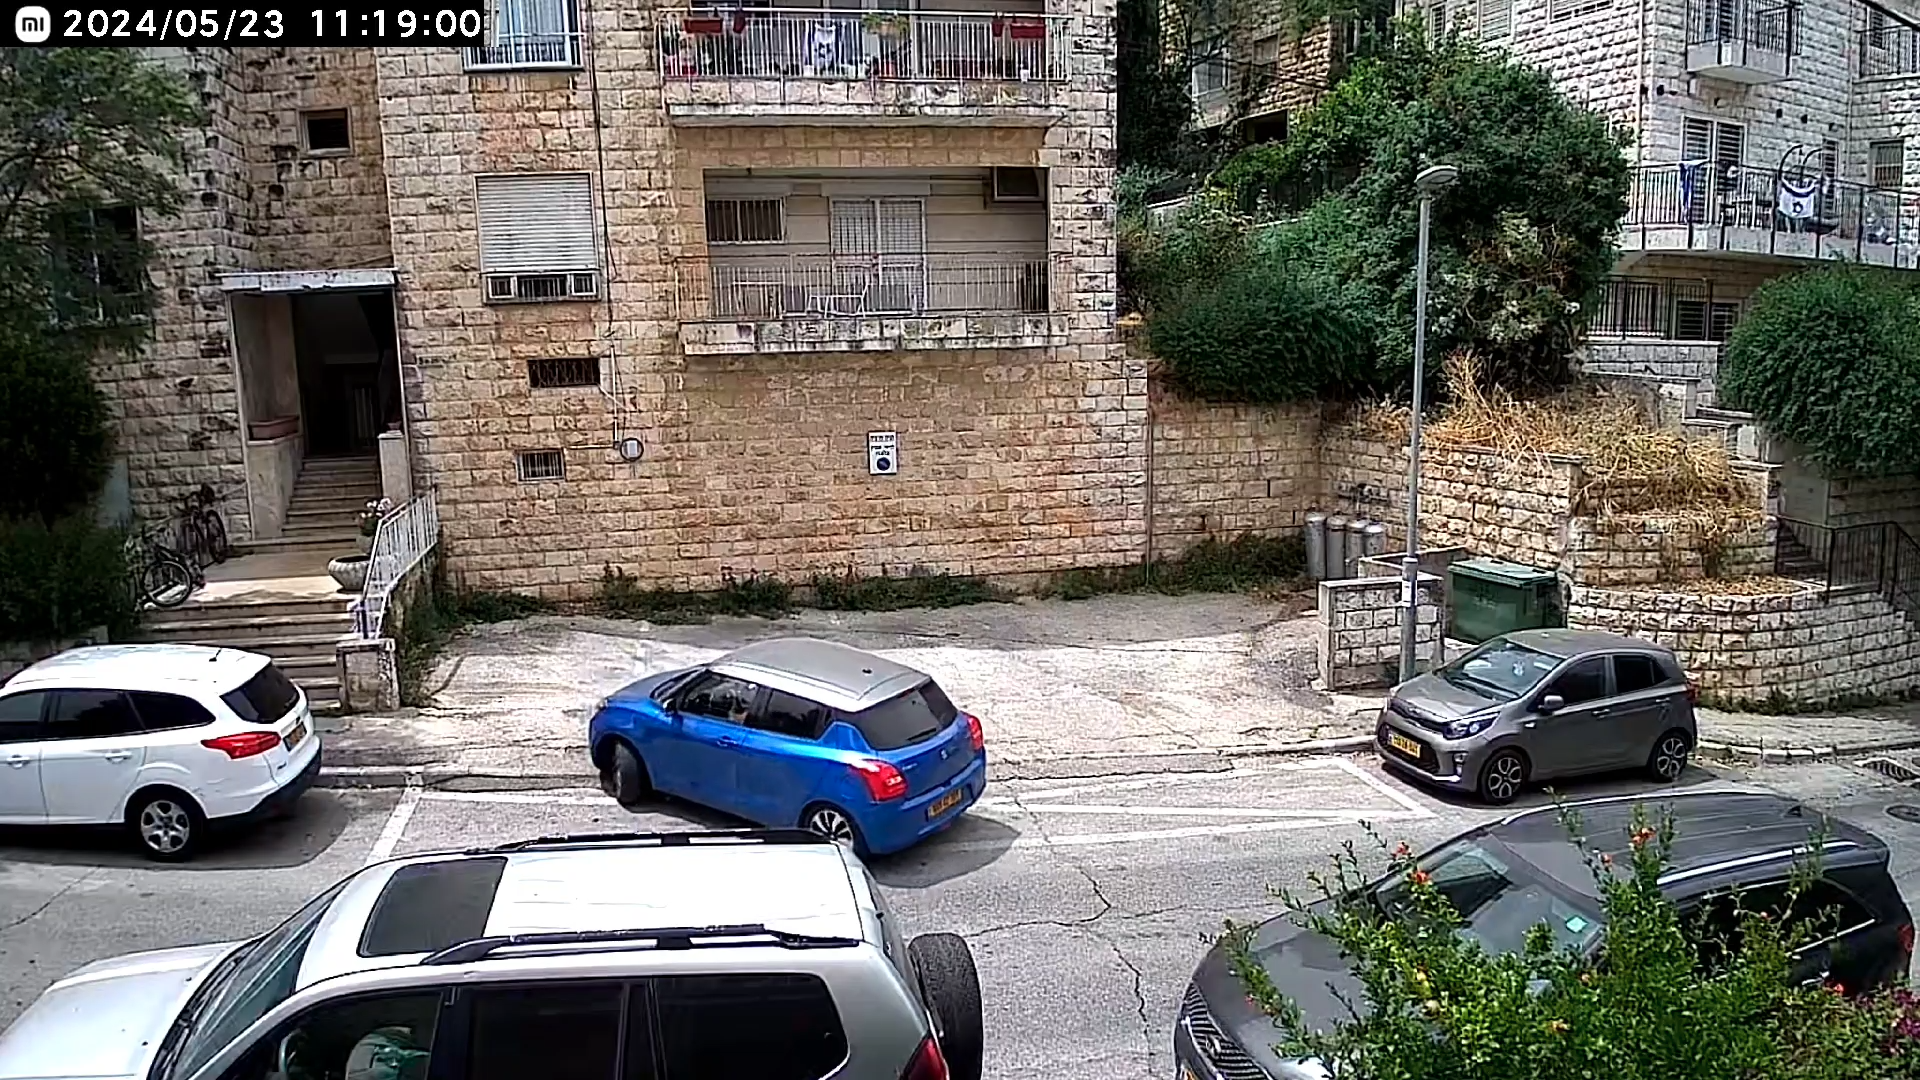moving_car: (1039, 526, 1344, 680)
